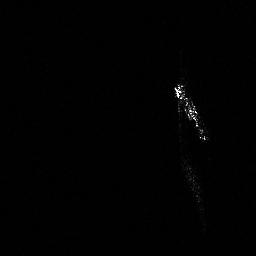ship: (174, 83, 206, 141)
